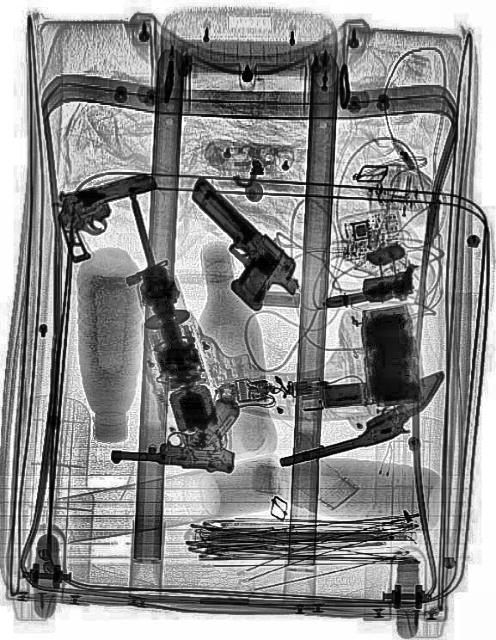Gun: (165, 172, 307, 326), (270, 370, 452, 470), (109, 385, 240, 473), (52, 165, 166, 265), (358, 262, 420, 302)
